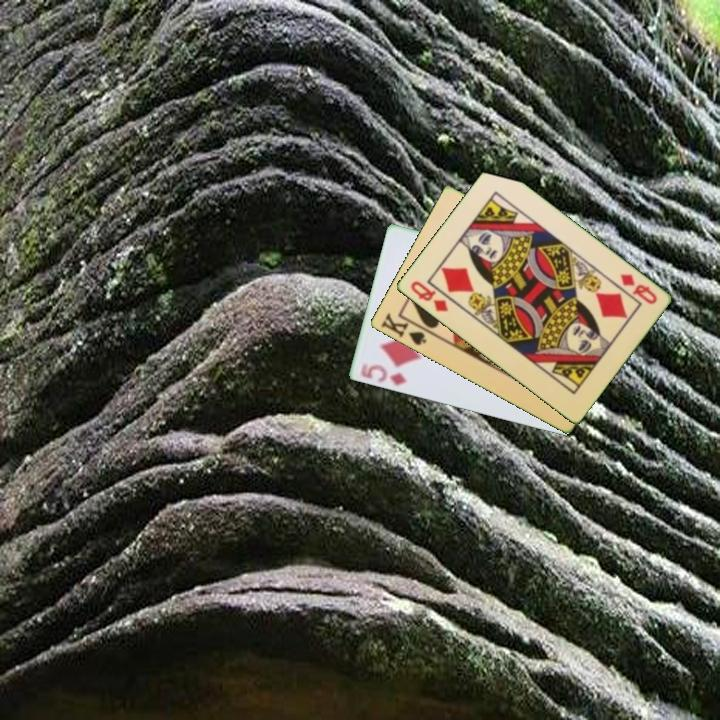5d: (356, 360, 410, 388)
Ks: (377, 309, 429, 348)
Qd: (406, 277, 451, 315), (616, 270, 660, 307)
